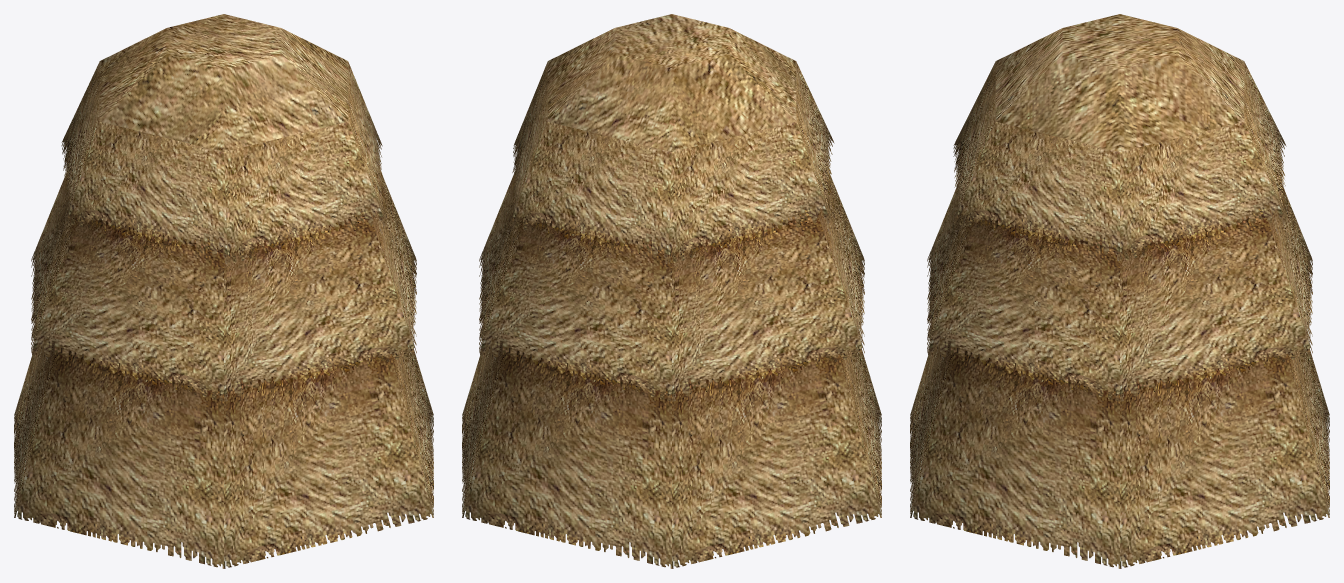
The model's file is oas_kara_obj04.glb.
3 renders of one model, left to right at view 1: azimuth 30°, elevation 25°; view 2: azimuth 150°, elevation 25°; view 3: azimuth 270°, elevation 25°, orthographic.
Visible parts, largest first — view 1: oas_kara_obj04; view 2: oas_kara_obj04; view 3: oas_kara_obj04.
Part boxes in pixels (x1=…): oas_kara_obj04: x1=14, y1=14, x2=433, y2=568; oas_kara_obj04: x1=462, y1=14, x2=881, y2=568; oas_kara_obj04: x1=910, y1=14, x2=1329, y2=568.
Bounding box in the file's own units: 2.62 × 2.53 × 2.27.
Materials: 1 (1 with a texture image).
